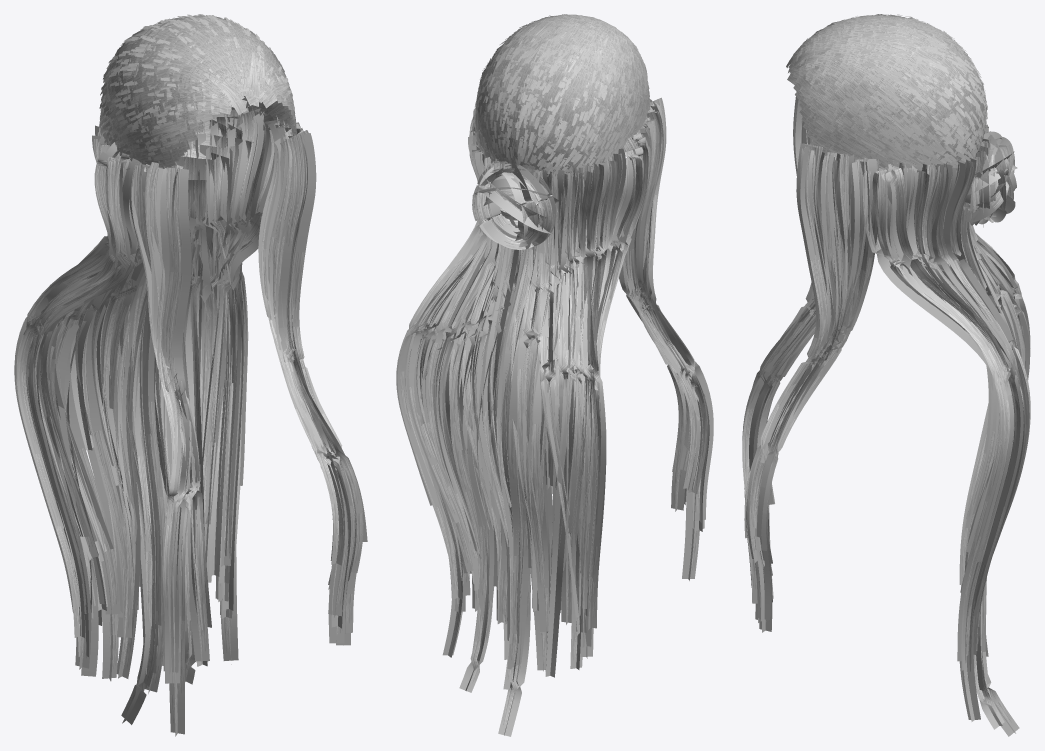
Rendered from NC_Head_Female_Cards2.fbx.
3 renders of one model, left to right at view 1: azimuth 30°, elevation 25°; view 2: azimuth 150°, elevation 25°; view 3: azimuth 270°, elevation 25°, orthographic. The views are drawn at different scales.
Visible parts, largest first — view 1: Hair_Locs_CapCards_2, Hair_Locs_CapCards, Hair_LowBun_Cards, Hair_Locs_CapCards_3; view 2: Hair_Locs_CapCards, Hair_Locs_CapCards_2, Hair_LowBun_Cards, Hair_Locs_CapCards_3, Hair_LowBun_Cards_2; view 3: Hair_Locs_CapCards_2, Hair_Locs_CapCards, Hair_LowBun_Cards, Hair_Locs_CapCards_3, Hair_LowBun_Cards_2.
Boxes of the visible parts, x1,y1,x2,y2 form: Hair_Locs_CapCards_2: [14, 108, 363, 736]; Hair_Locs_CapCards: [15, 106, 367, 724]; Hair_LowBun_Cards: [99, 14, 297, 170]; Hair_Locs_CapCards_3: [21, 108, 350, 734]; Hair_Locs_CapCards: [396, 102, 713, 736]; Hair_Locs_CapCards_2: [400, 97, 709, 689]; Hair_LowBun_Cards: [472, 14, 650, 249]; Hair_Locs_CapCards_3: [397, 148, 702, 677]; Hair_LowBun_Cards_2: [472, 161, 558, 249]; Hair_Locs_CapCards_2: [742, 96, 1030, 696]; Hair_Locs_CapCards: [746, 124, 1029, 736]; Hair_LowBun_Cards: [786, 14, 1016, 222]; Hair_Locs_CapCards_3: [746, 150, 1030, 656]; Hair_LowBun_Cards_2: [963, 130, 1017, 227].
Bounding box in the file's own units: 0.8366 × 2.59 × 0.9477.
1 material, 1 textured.
